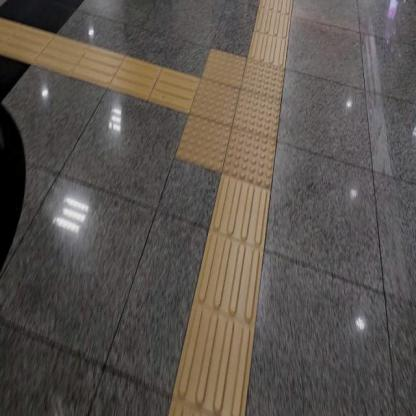podotacti: (163, 30, 297, 207), (166, 192, 272, 415), (0, 10, 187, 117), (247, 0, 292, 56)
